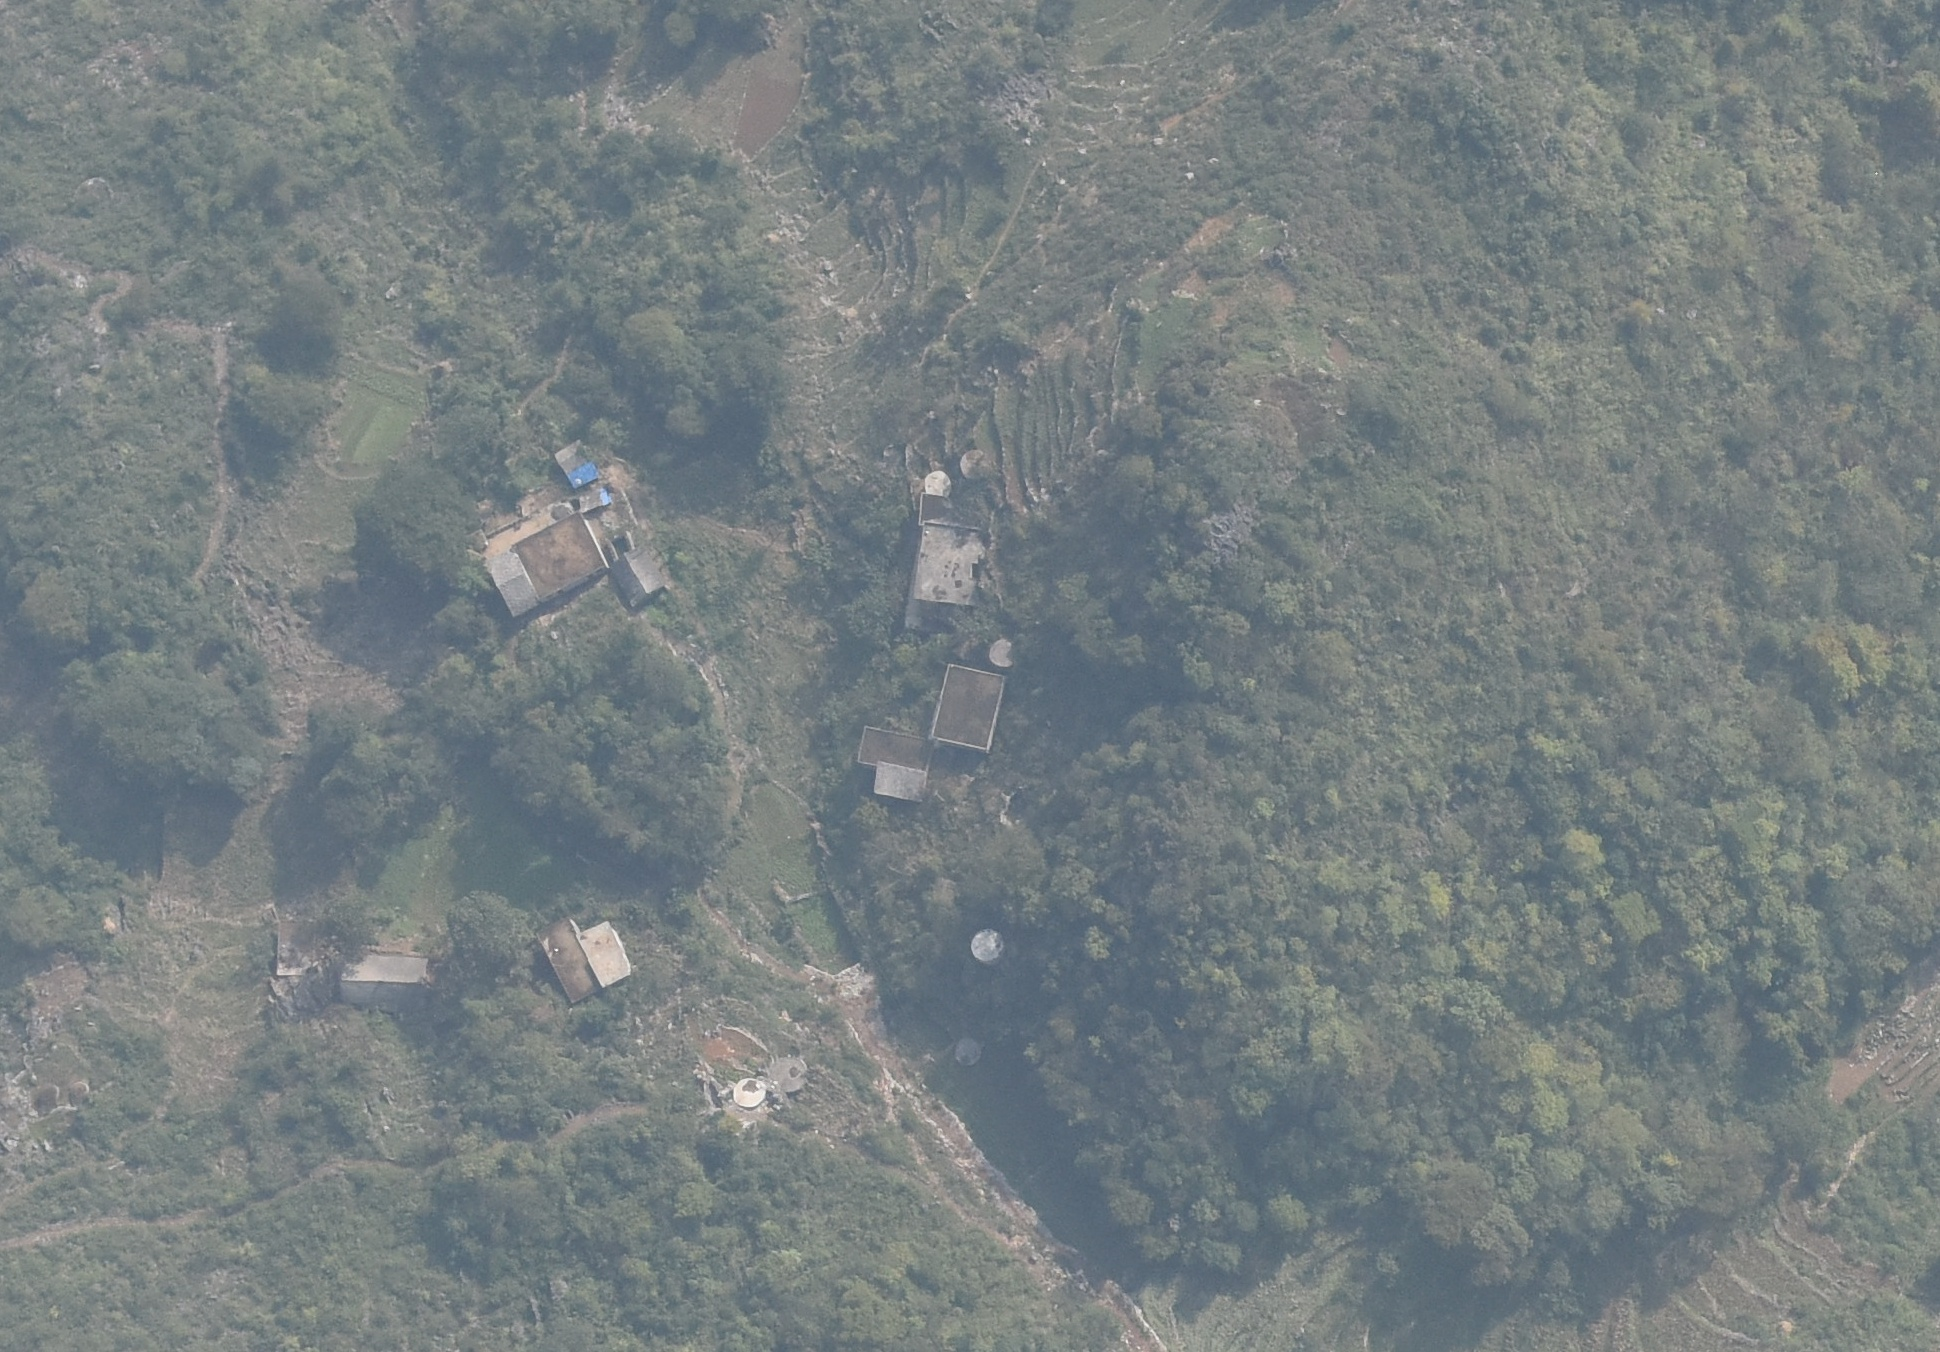building: (484, 512, 606, 621), (913, 512, 1005, 610), (929, 661, 1007, 756), (854, 724, 935, 814), (612, 543, 660, 607), (553, 442, 590, 469)
prefabricated-house: (566, 461, 599, 485)
quarry: (534, 911, 638, 1008), (339, 941, 439, 1017)
well: (768, 1054, 806, 1093), (970, 924, 1002, 966), (733, 1073, 767, 1109), (957, 451, 995, 481), (989, 634, 1022, 666), (952, 1036, 983, 1066), (923, 467, 952, 497)
